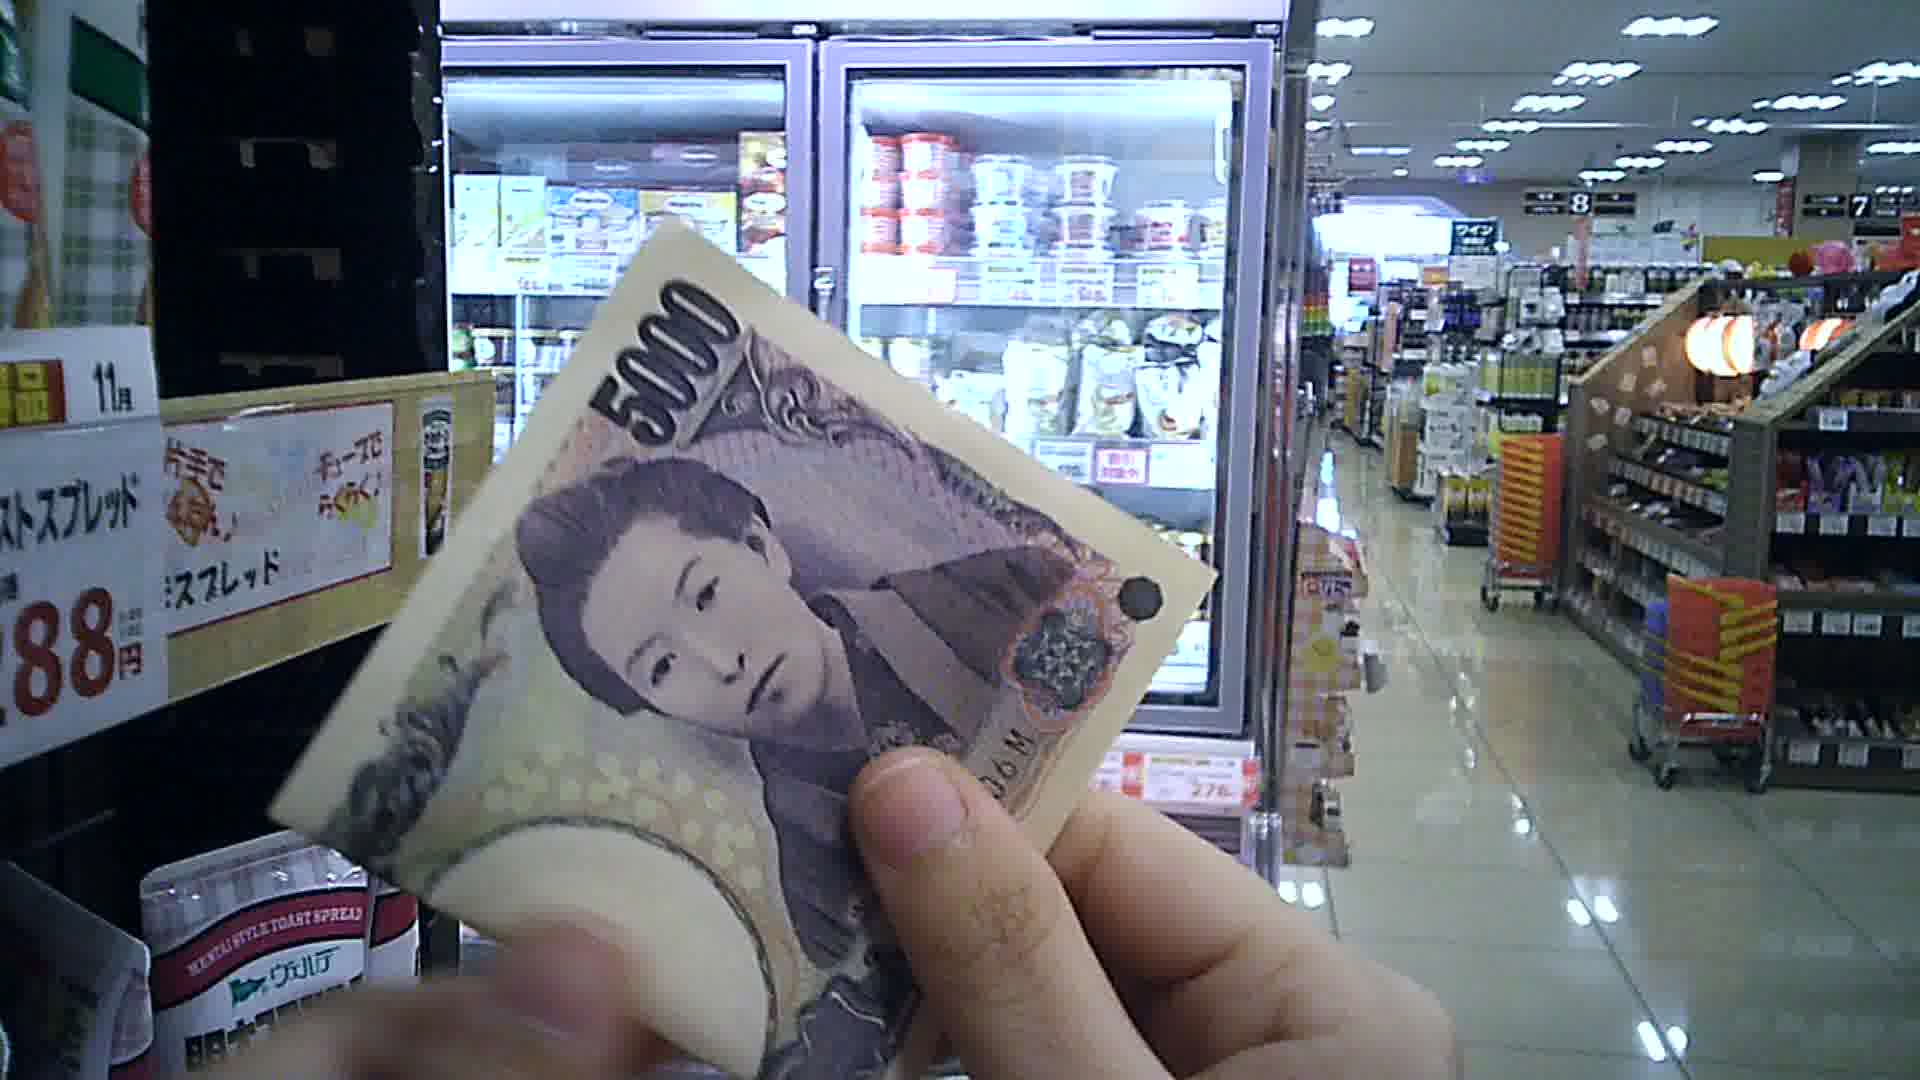5,000 Yen: (284, 208, 1179, 1079)
